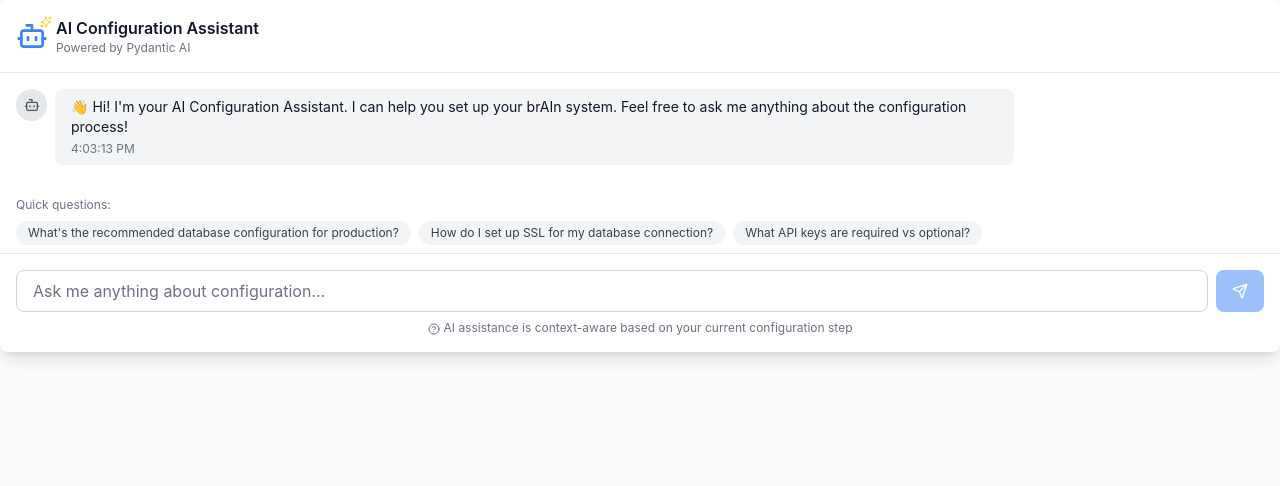
Scenario: ConfigAssistant › Response Content › should provide API key guidance
Type "api key" into the field with placeholder "Ask me anything about configuration..." at (612, 291), box top-left (16, 270), bottom-right (1208, 312)
Then press Enter
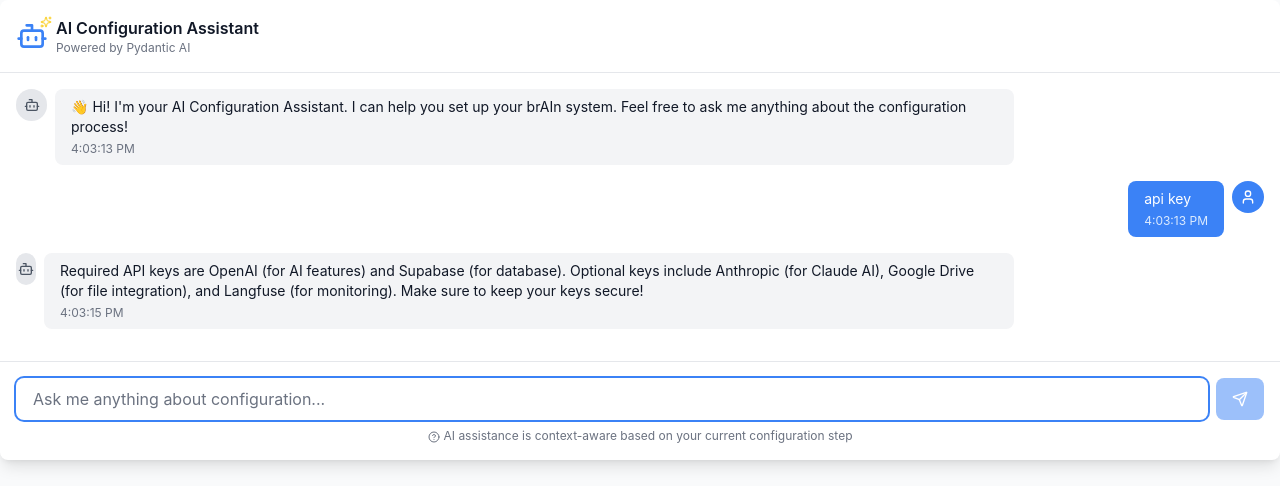
Expected: the text "Supabase" is shown, top-left (60, 262), bottom-right (978, 299)
